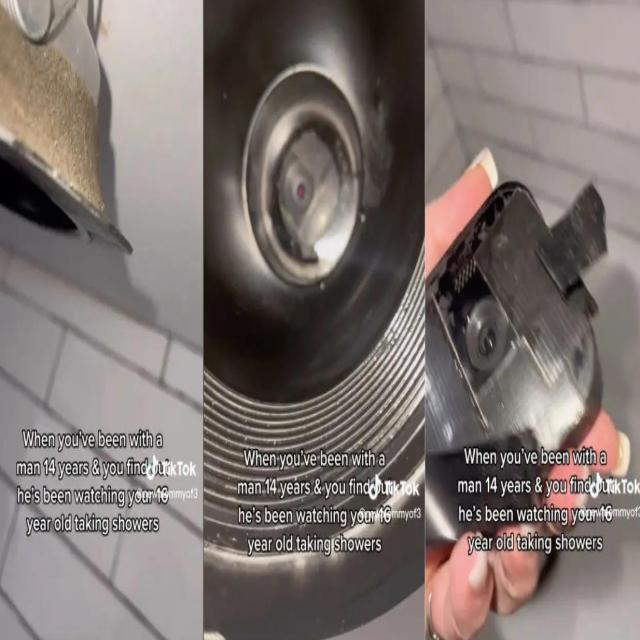hidden camera: (464, 285, 509, 386), (279, 151, 317, 223)
